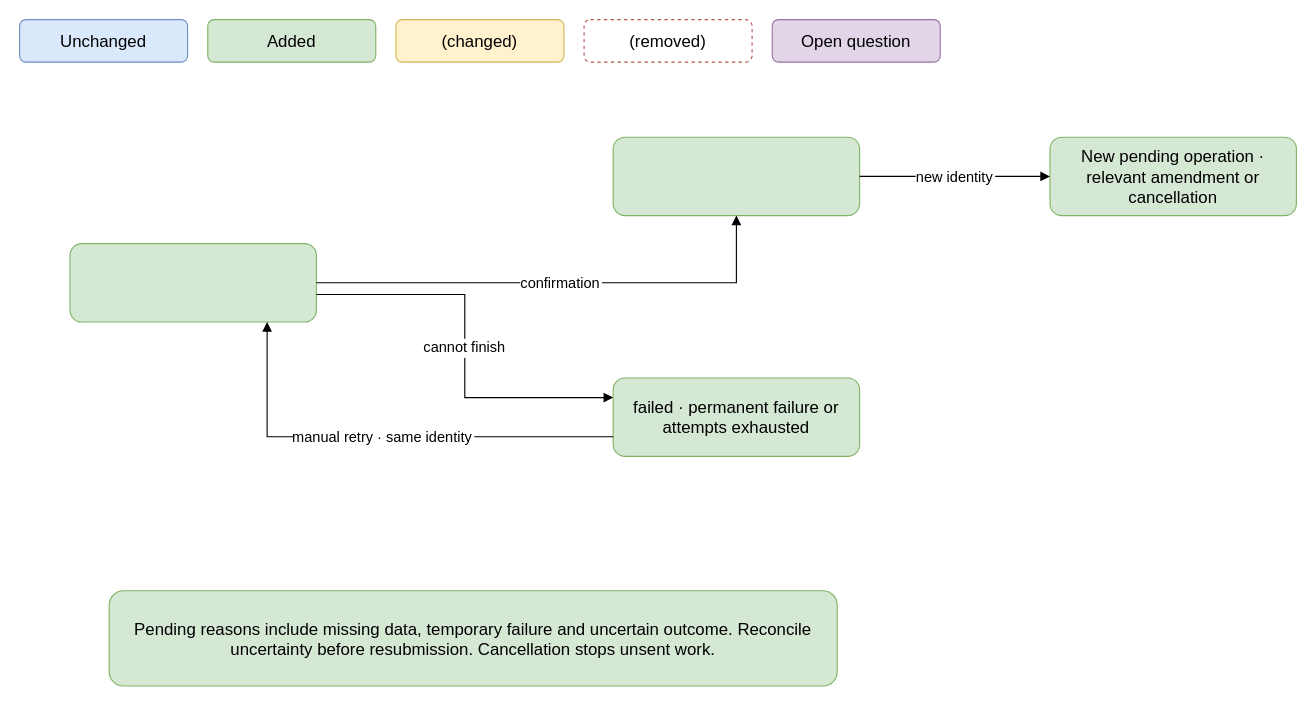
This 1316x706 diagram has some shape labels left out. The shapes that lost their labels are listed below. From the top down, each one's centre as x and y in pixels, then its label:
the point at 736,176: confirmed · definitive result
the point at 192,282: pending · stable operation ID and pinned destination
